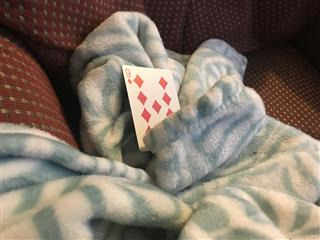NineOfDiamonds: (121, 63, 181, 151)
